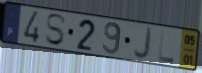2: (75, 17, 98, 54)
4: (22, 10, 42, 45)
9: (102, 21, 122, 56)
J: (132, 25, 154, 62)
L: (157, 28, 176, 65)
S: (44, 12, 68, 47)
